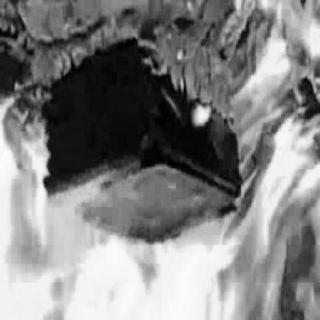Fire: (1, 3, 317, 315)
